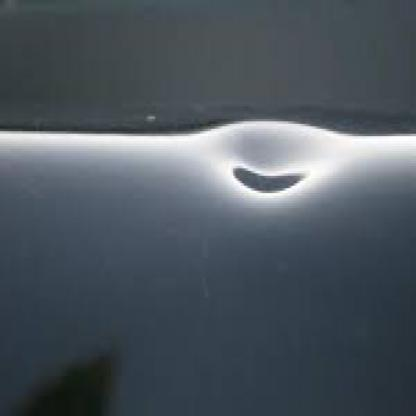dent: (226, 120, 318, 217)
